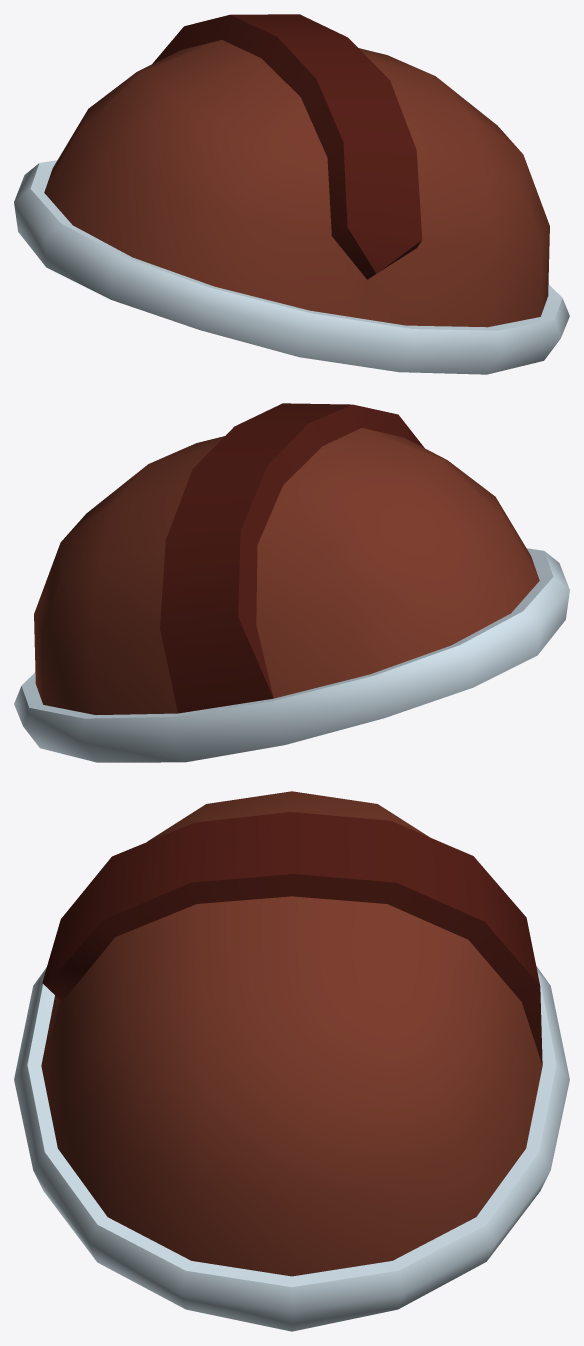
Rendered from shoulderL.glb.
The picture shows the model from 3 angles, top to bottom: view 1: azimuth 30°, elevation 25°; view 2: azimuth 150°, elevation 25°; view 3: azimuth 270°, elevation 25°; orthographic projection. The views are drawn at different scales.
Visible parts, largest first — view 1: fantasyShoulderL; view 2: fantasyShoulderL; view 3: fantasyShoulderL.
Boxes of the visible parts, box(x1,y1,x2,y2) form: fantasyShoulderL: box(14, 14, 569, 374); fantasyShoulderL: box(14, 403, 569, 762); fantasyShoulderL: box(14, 791, 569, 1331).
Size of the model in its own units: 0.4599 by 0.3015 by 0.3938.
